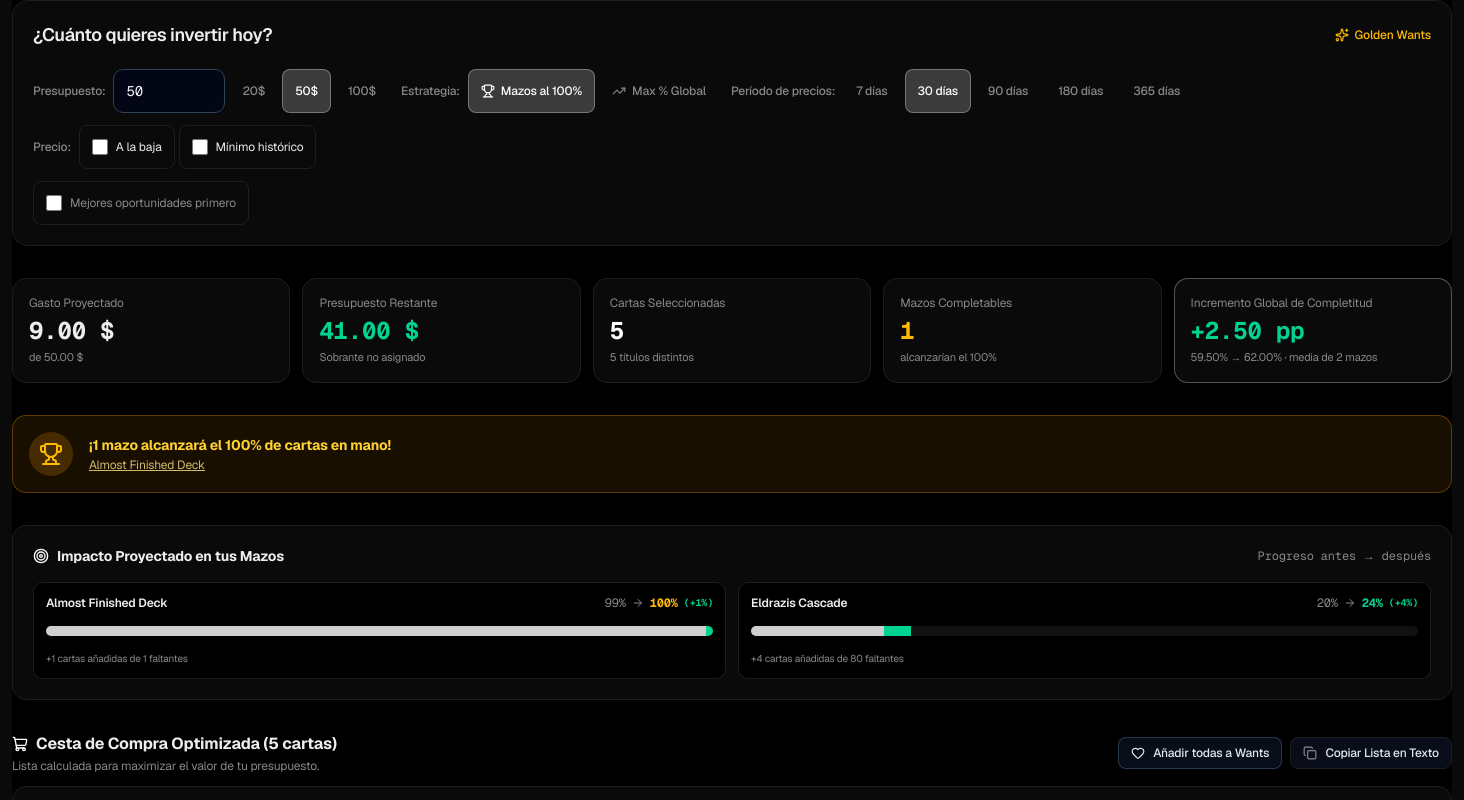
GoldenWantsTab Component › shows one line per selected card with type, mana and price for the focused deck
This screenshot has width=1464, height=800.
Focus the button named "Cartas que mejoran Eldrazis Cascade" at (1084, 630), box [751, 618, 1418, 642]
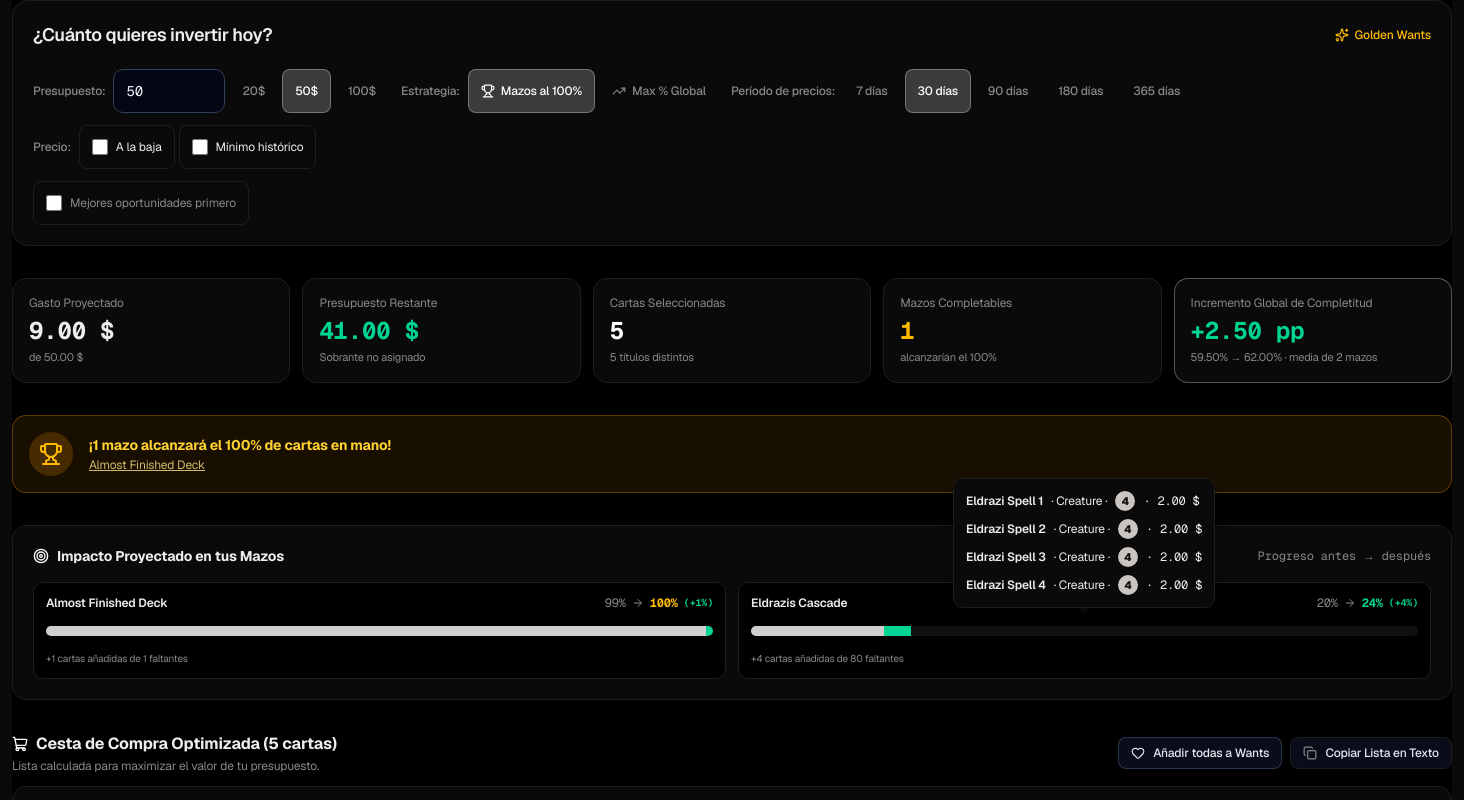
Expected: the number of list items is 4, [966, 491, 1202, 511]; [966, 519, 1202, 539]; [966, 547, 1202, 567]; [966, 575, 1202, 595]
Expected: the text "Eldrazi Spell 1" is shown, [966, 493, 1043, 509]
Expected: the list item "Eldrazi Spell 1 · Creature · 4 · 2.00 $" is shown, [966, 491, 1202, 511]
